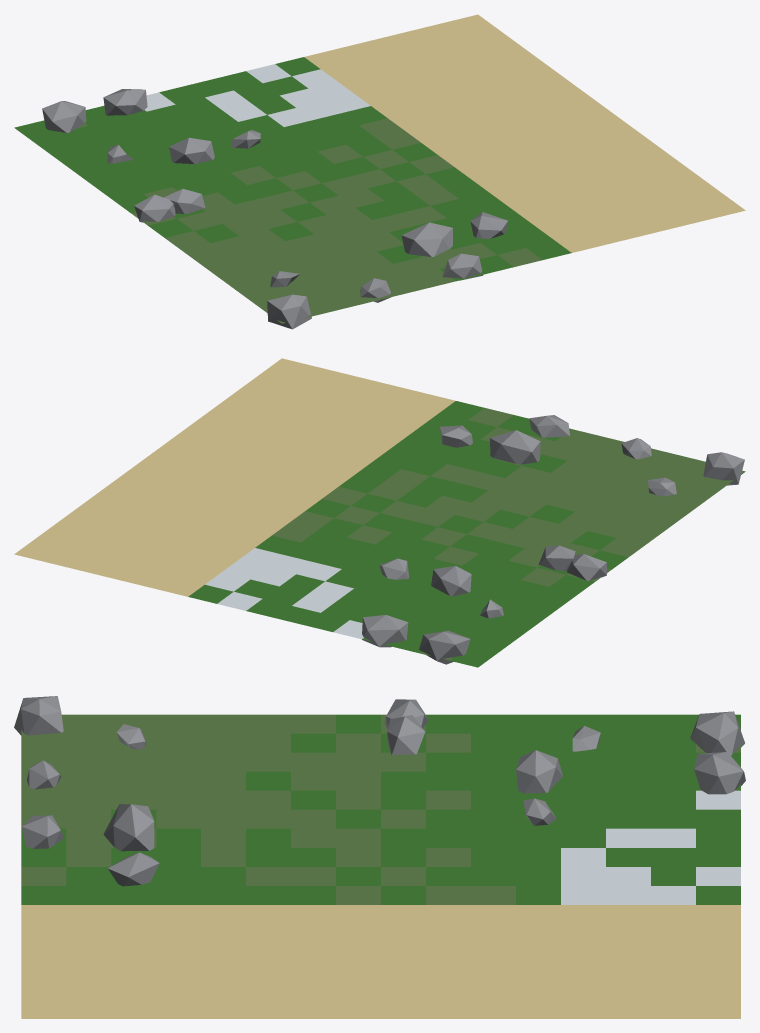
Rendered from chunk_11_2.glb.
The picture shows the model from 3 angles, top to bottom: view 1: azimuth 30°, elevation 25°; view 2: azimuth 150°, elevation 25°; view 3: azimuth 270°, elevation 25°; orthographic projection. The views are drawn at different scales.
Visible parts, largest first — view 1: chunk_11_2; view 2: chunk_11_2; view 3: chunk_11_2.
Boxes of the visible parts, x1=… form: chunk_11_2: x1=14, y1=14, x2=745, y2=329; chunk_11_2: x1=14, y1=358, x2=745, y2=667; chunk_11_2: x1=14, y1=696, x2=745, y2=1018.
Size of the model in its own units: 16.11 by 1.31 by 16.27.
